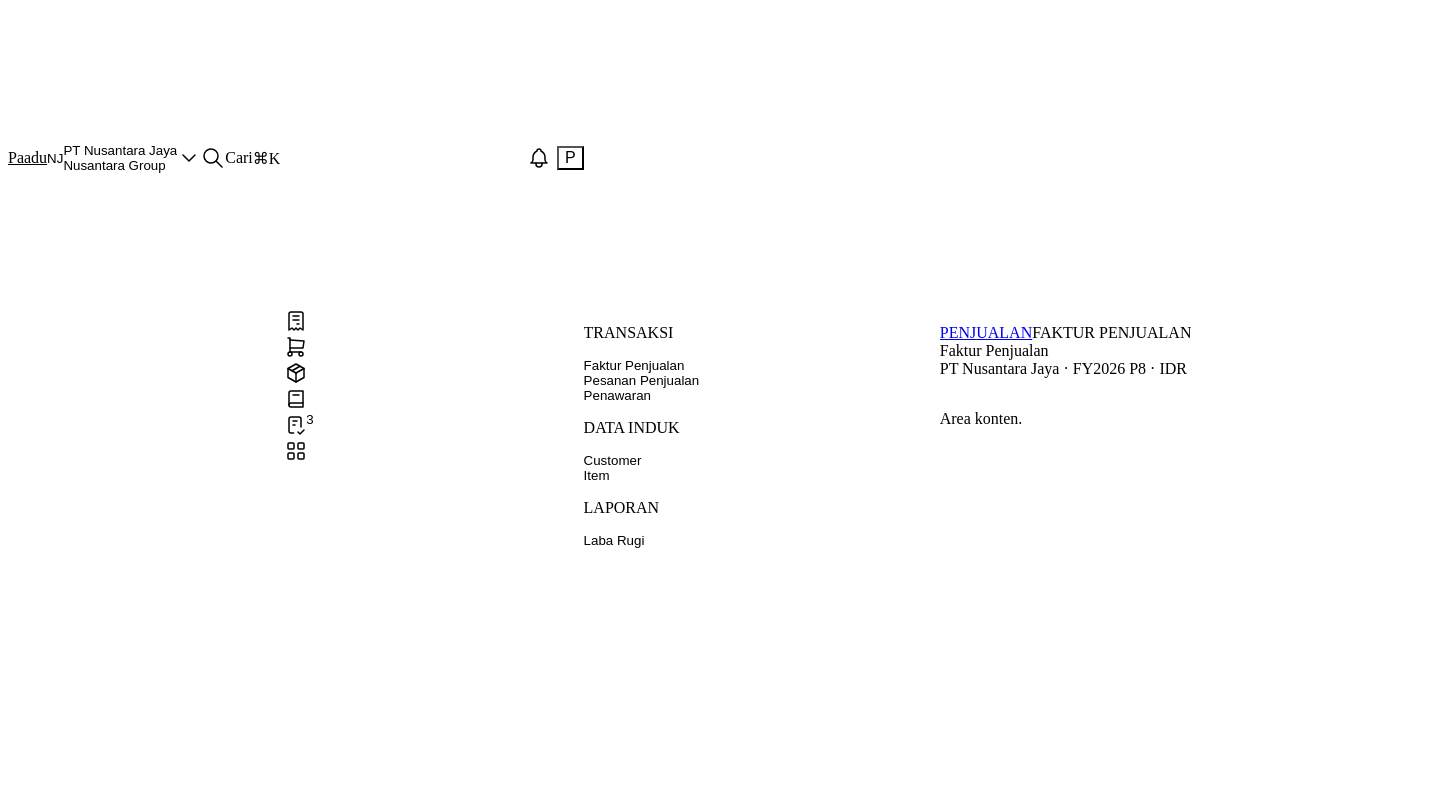
pengalih company: keyboard penuh, banner assertive, fokus kembali ke pemicu
Step 1. Click the button "NJ PT Nusantara Jaya Nusantara Group" → (124, 158), box left=47, top=143, right=201, bottom=173
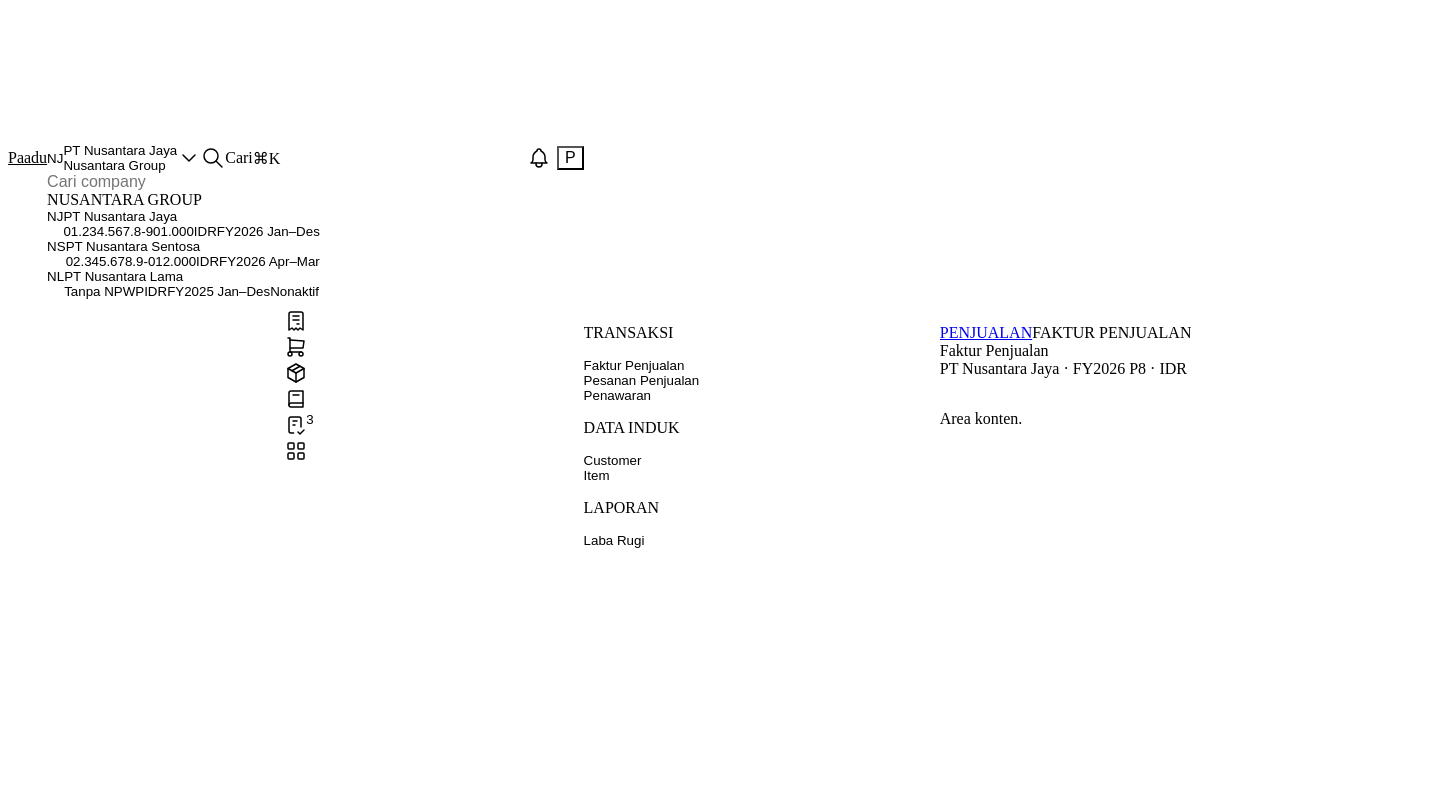
expect the dialog named "Pilih company" is shown: met, box left=47, top=173, right=320, bottom=299
Step 2. Press Arrowdown Enter
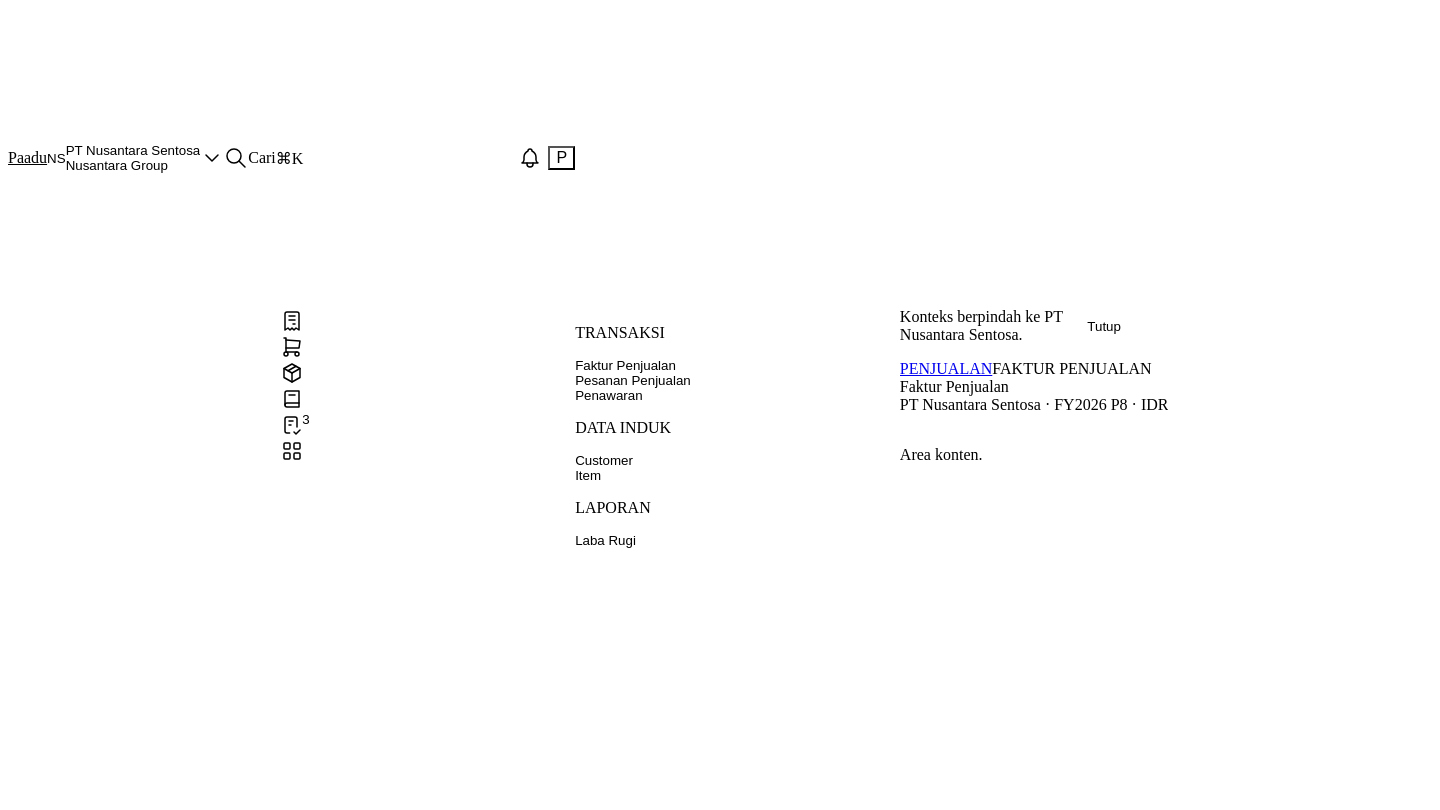
expect the element showing "Konteks berpindah ke PT Nusantara Sentosa. Tutup" is shown: met, box left=900, top=308, right=1432, bottom=344
